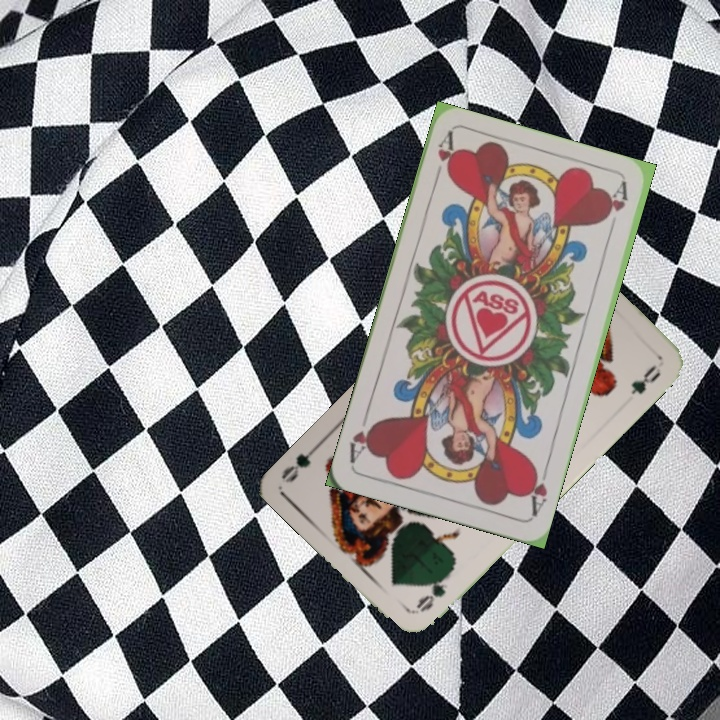GO: (412, 566, 455, 615)
HA: (523, 460, 551, 519), (430, 130, 458, 188)
